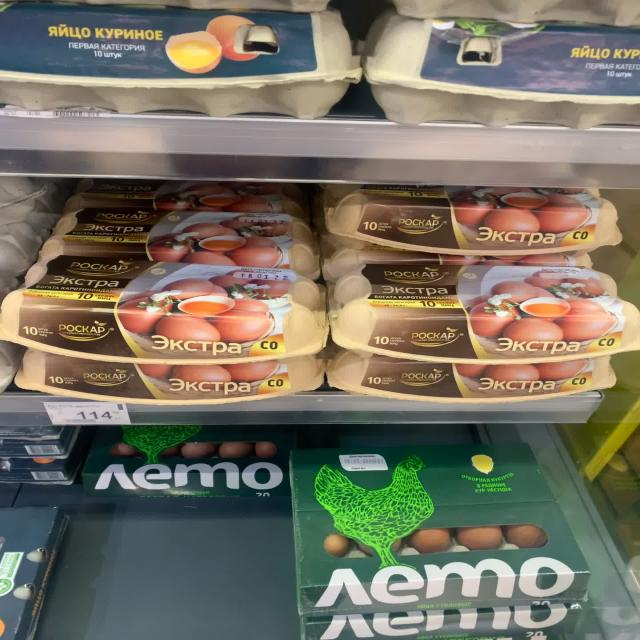egg box: (290, 432, 624, 616), (0, 8, 356, 117), (0, 258, 336, 364), (332, 264, 636, 365), (325, 181, 622, 255), (38, 210, 320, 278), (9, 344, 325, 402), (323, 344, 613, 401)
